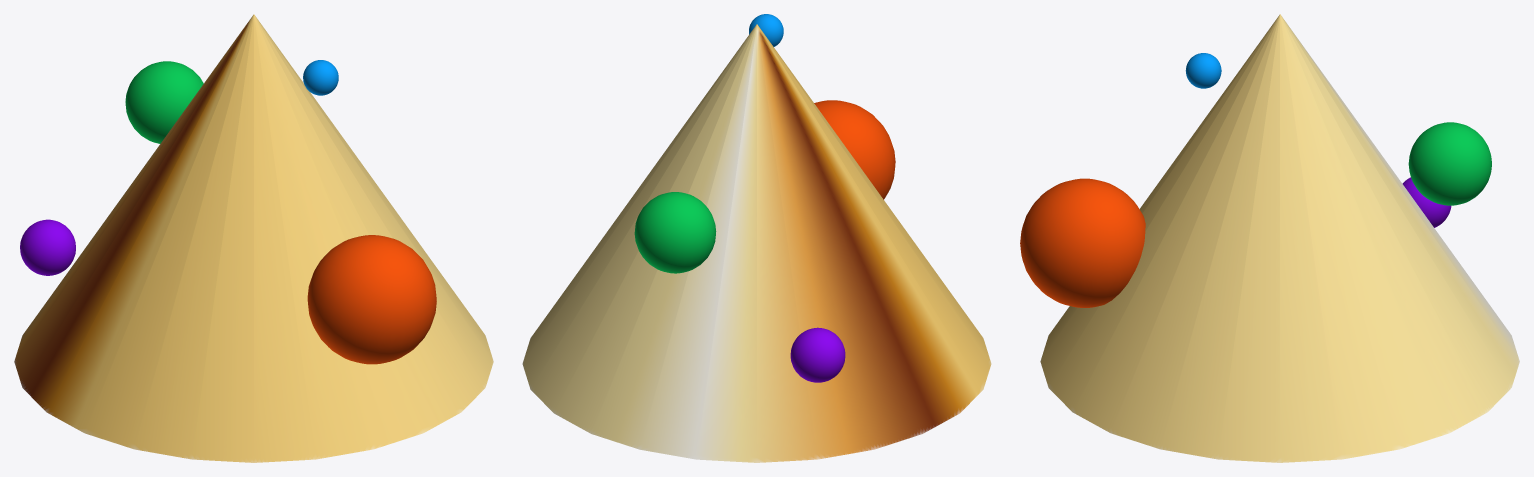
3 renders of one model, left to right at view 1: azimuth 30°, elevation 25°; view 2: azimuth 150°, elevation 25°; view 3: azimuth 270°, elevation 25°, orthographic. The views are drawn at different scales.
Visible parts, largest first — view 1: Cone01, Sphere02, Sphere01, Sphere03, Sphere04; view 2: Cone01, Sphere01, Sphere02, Sphere03, Sphere04; view 3: Cone01, Sphere02, Sphere01, Sphere04, Sphere03.
Boxes of the visible parts, x1,y1,x2,y2 form: Cone01: (14,14,493,462); Sphere02: (307,235,436,364); Sphere01: (125,61,203,143); Sphere03: (20,219,75,275); Sphere04: (303,60,338,95); Cone01: (522,24,991,462); Sphere01: (634,192,716,273); Sphere02: (814,100,895,199); Sphere03: (790,327,845,382); Sphere04: (749,14,783,46); Cone01: (1040,14,1519,462); Sphere02: (1020,178,1145,307); Sphere01: (1408,122,1491,205); Sphere04: (1185,53,1221,88); Sphere03: (1402,177,1451,227).
Size of the model in its own units: 3.94 by 4.1 by 3.15.
